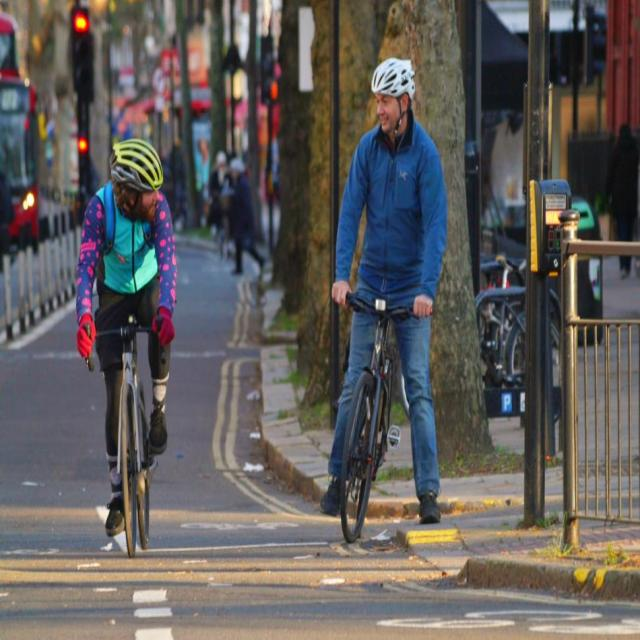bicycle: (320, 58, 448, 542), (76, 139, 178, 557)
